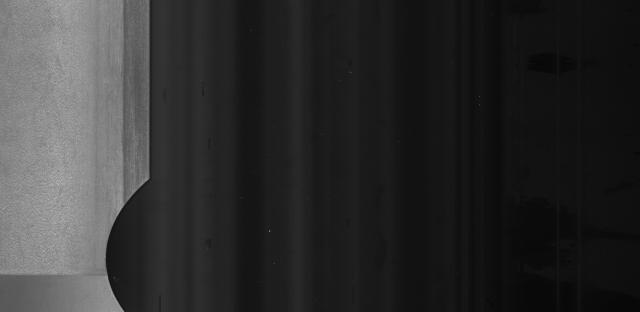welding_line: (3, 265, 121, 286)
